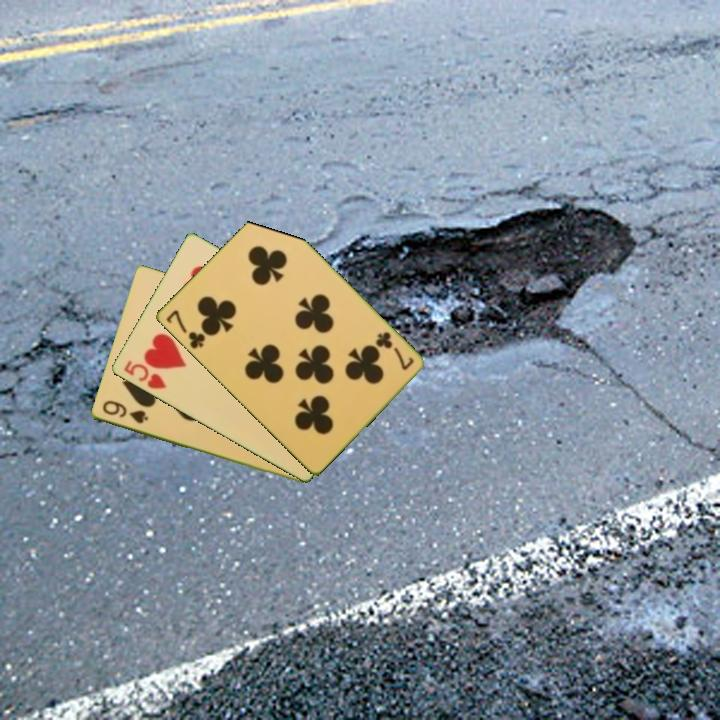5h: (120, 357, 169, 392)
7c: (162, 306, 208, 352), (372, 328, 416, 373)
9s: (98, 397, 151, 427)
